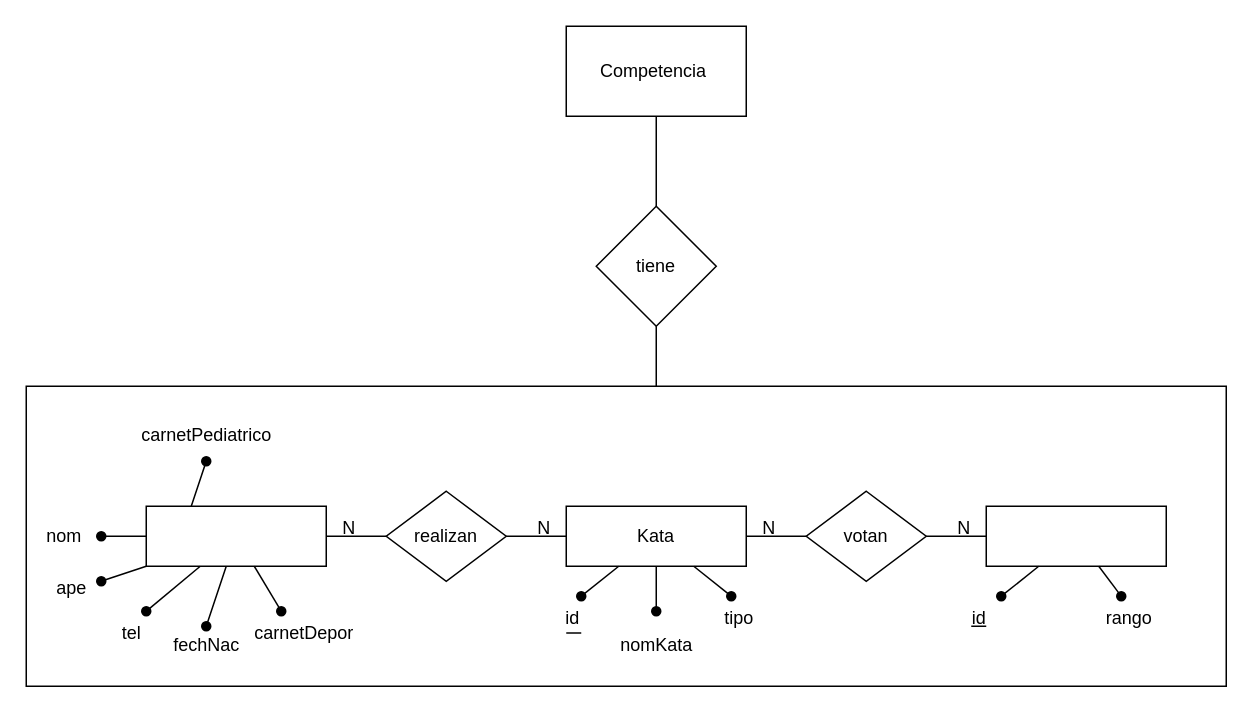
The diagram is 1253 pixels wide and 713 high, and some of its shapes have lost their labels. Each missing label, with the box of its shape:
Competidores: (145, 505, 326, 566)
Jueces: (985, 505, 1166, 566)
